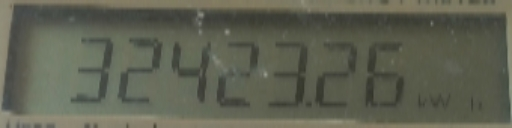2: (114, 26, 162, 114), (214, 26, 259, 112), (316, 26, 356, 109)
3: (259, 30, 309, 121), (71, 21, 112, 108)
4: (166, 28, 214, 121)
6: (360, 25, 421, 128)
d: (304, 96, 315, 111)
